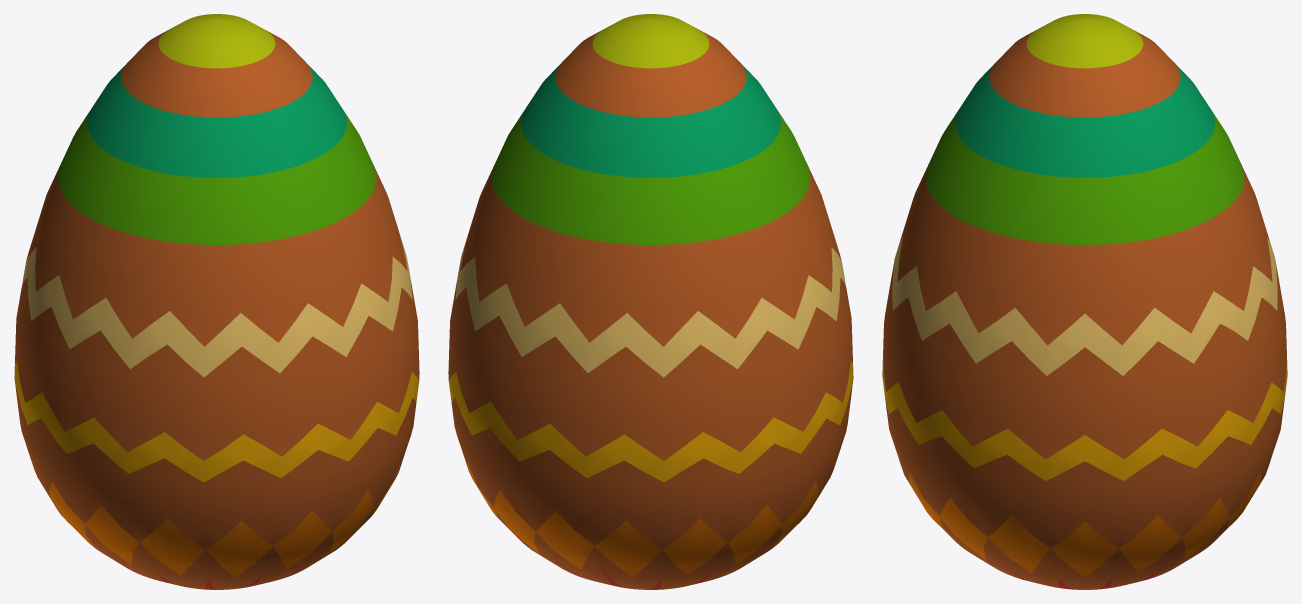
The model's file is Osterei 1.fbx.
The picture shows the model from 3 angles, left to right: view 1: azimuth 30°, elevation 25°; view 2: azimuth 150°, elevation 25°; view 3: azimuth 270°, elevation 25°; orthographic projection.
Visible parts, largest first — view 1: Rest, 3 Top, 2 Top, Middle, 3 Bottom, 2 Bottom, Top; view 2: Rest, 3 Top, 2 Top, Middle, 3 Bottom, 2 Bottom, Top; view 3: Rest, 3 Top, 2 Top, Middle, 3 Bottom, 2 Bottom, Top.
Boxes of the visible parts, bbox=[...] form: Rest: bbox=[15, 30, 419, 589]; 3 Top: bbox=[57, 110, 376, 244]; 2 Top: bbox=[87, 65, 346, 177]; Middle: bbox=[21, 232, 412, 377]; 3 Bottom: bbox=[14, 360, 419, 482]; 2 Bottom: bbox=[30, 457, 400, 577]; Top: bbox=[158, 14, 275, 68]; Rest: bbox=[448, 30, 852, 589]; 3 Top: bbox=[491, 110, 810, 244]; 2 Top: bbox=[521, 65, 780, 177]; Middle: bbox=[455, 232, 846, 377]; 3 Bottom: bbox=[448, 360, 853, 482]; 2 Bottom: bbox=[467, 457, 837, 577]; Top: bbox=[592, 14, 709, 68]; Rest: bbox=[883, 30, 1286, 589]; 3 Top: bbox=[925, 110, 1244, 244]; 2 Top: bbox=[955, 62, 1214, 177]; Middle: bbox=[892, 237, 1277, 375]; 3 Bottom: bbox=[882, 350, 1287, 480]; 2 Bottom: bbox=[908, 472, 1261, 577]; Top: bbox=[1026, 14, 1143, 68].
Bounding box in the file's own units: 204 × 306 × 204.
